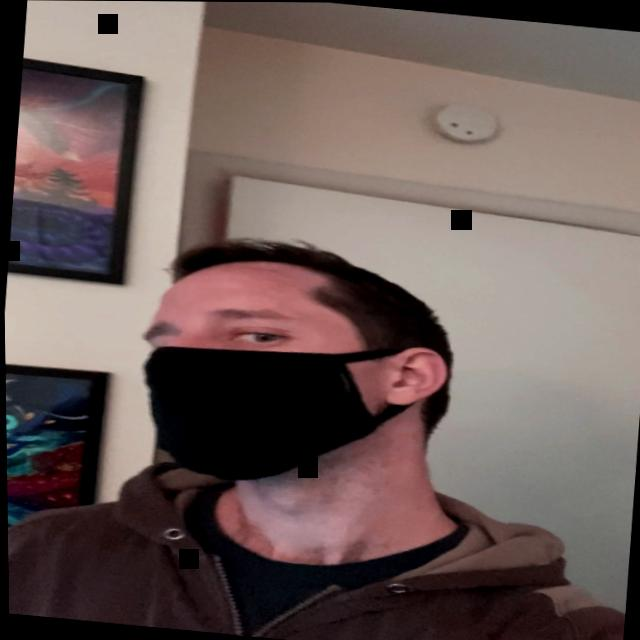Mask: (113, 235, 469, 515)
